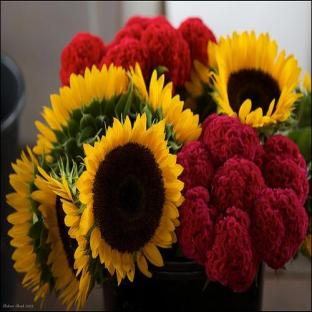sunflower: (76, 113, 185, 286)
